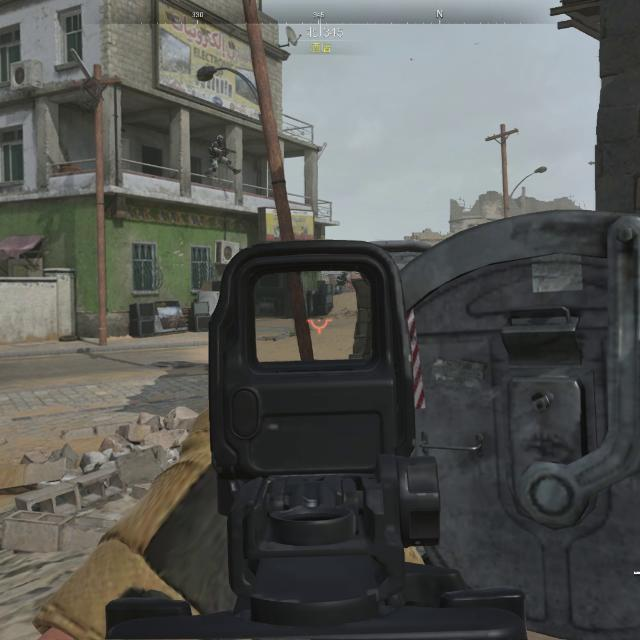MW2_body: (205, 136, 242, 180)
